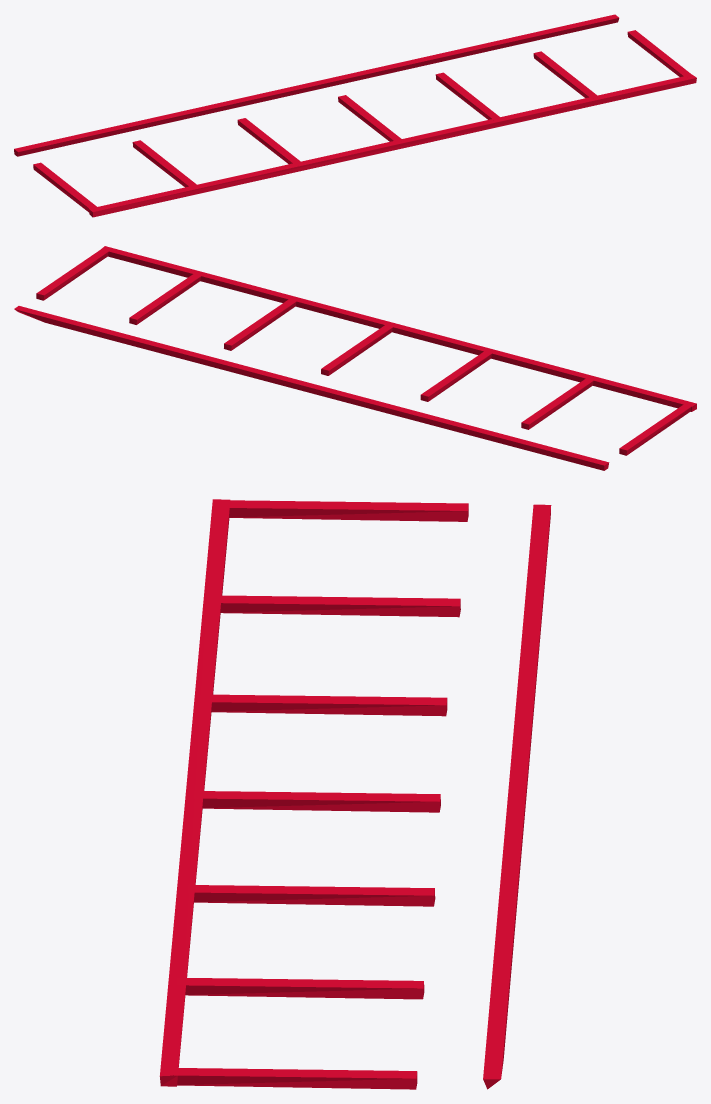
Rendered from campus_odd.dae.
3 views of the same model, one above another, from view 1: azimuth 30°, elevation 25°; view 2: azimuth 150°, elevation 25°; view 3: azimuth 270°, elevation 25° (orthographic). The views are drawn at different scales.
Parts seen in each view (by area): view 1: Cube.002, Cube.001, Cube.022, Cube.006, Cube.004, Cube.005, Cube.009, Cube.007, Cube.008; view 2: Cube.001, Cube.002, Cube.004, Cube.009, Cube.005, Cube.006, Cube.022, Cube.007, Cube.008; view 3: Cube.001, Cube.002, Cube.004, Cube.006, Cube.009, Cube.022, Cube.005, Cube.008, Cube.007.
Part boxes in pixels (box(x1,y1,x2,y2)): Cube.002: box(89, 75, 696, 217); Cube.001: box(14, 14, 619, 156); Cube.022: box(33, 162, 98, 212); Cube.006: box(435, 72, 501, 120); Cube.004: box(627, 30, 693, 77); Cube.005: box(533, 51, 599, 98); Cube.009: box(132, 140, 196, 187); Cube.007: box(338, 95, 402, 142); Cube.008: box(237, 118, 302, 165); Cube.001: box(14, 306, 609, 470); Cube.002: box(102, 246, 696, 411); Cube.004: box(36, 248, 110, 300); Cube.009: box(521, 378, 595, 429); Cube.005: box(129, 272, 203, 324); Cube.006: box(224, 298, 297, 350); Cube.022: box(619, 404, 693, 455); Cube.007: box(321, 323, 394, 375); Cube.008: box(420, 349, 494, 401); Cube.001: box(483, 504, 551, 1089); Cube.002: box(159, 499, 229, 1086); Cube.004: box(170, 1067, 417, 1089); Cube.006: box(187, 885, 435, 906); Cube.009: box(213, 595, 460, 617); Cube.022: box(221, 500, 468, 521); Cube.005: box(177, 977, 424, 999); Cube.008: box(200, 694, 447, 716); Cube.007: box(193, 791, 440, 812).
Size of the model in its own units: 21.34 by 6.09 by 0.1836.
